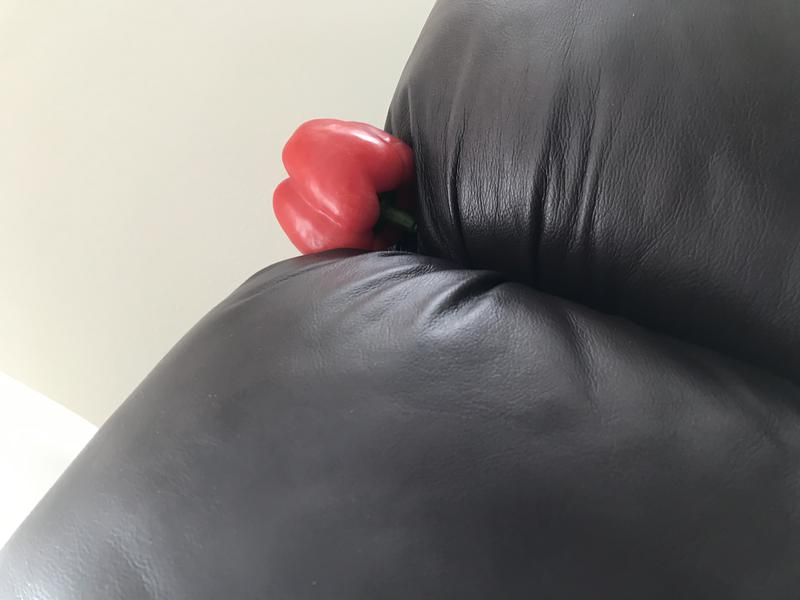red_pepper: (261, 108, 432, 272)
